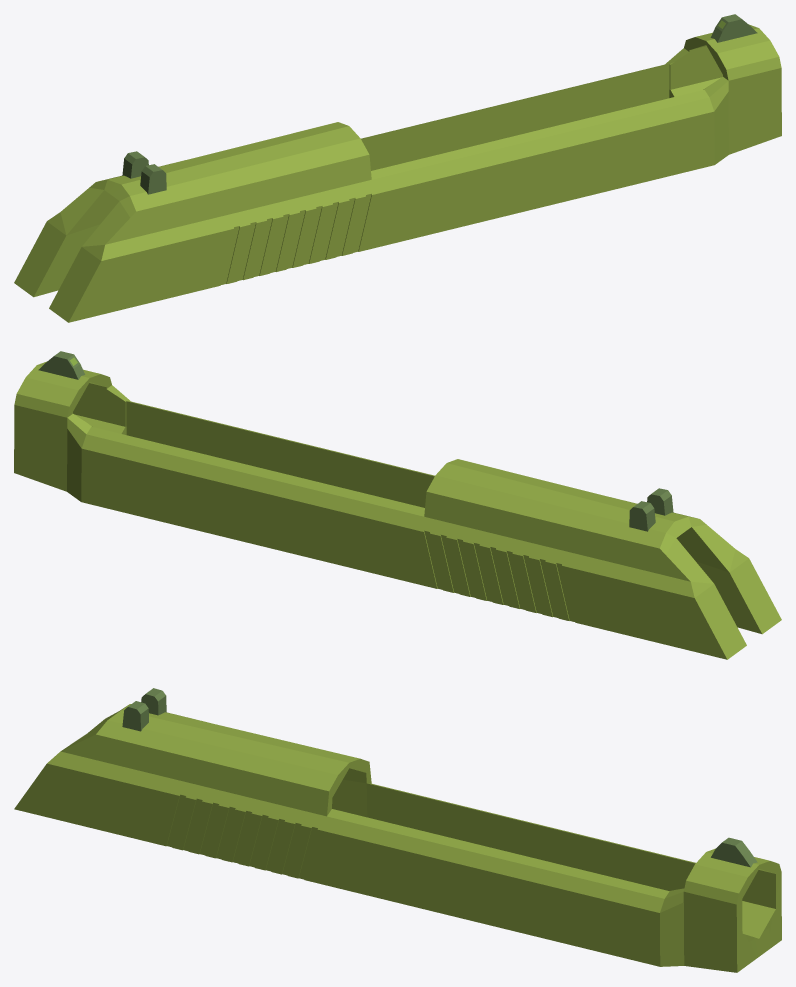
File: Pistol1_04_2.fbx
The picture shows the model from 3 angles, top to bottom: view 1: azimuth 30°, elevation 25°; view 2: azimuth 150°, elevation 25°; view 3: azimuth 330°, elevation 25°; orthographic projection.
Visible parts, largest first — view 1: Pistol1_04_2; view 2: Pistol1_04_2; view 3: Pistol1_04_2.
Boxes of the visible parts, x1=… form: Pistol1_04_2: x1=14, y1=14, x2=781, y2=322; Pistol1_04_2: x1=14, y1=351, x2=781, y2=659; Pistol1_04_2: x1=14, y1=688, x2=781, y2=972.
Size of the model in its own units: 0.2348 by 0.0363 by 0.0308.
